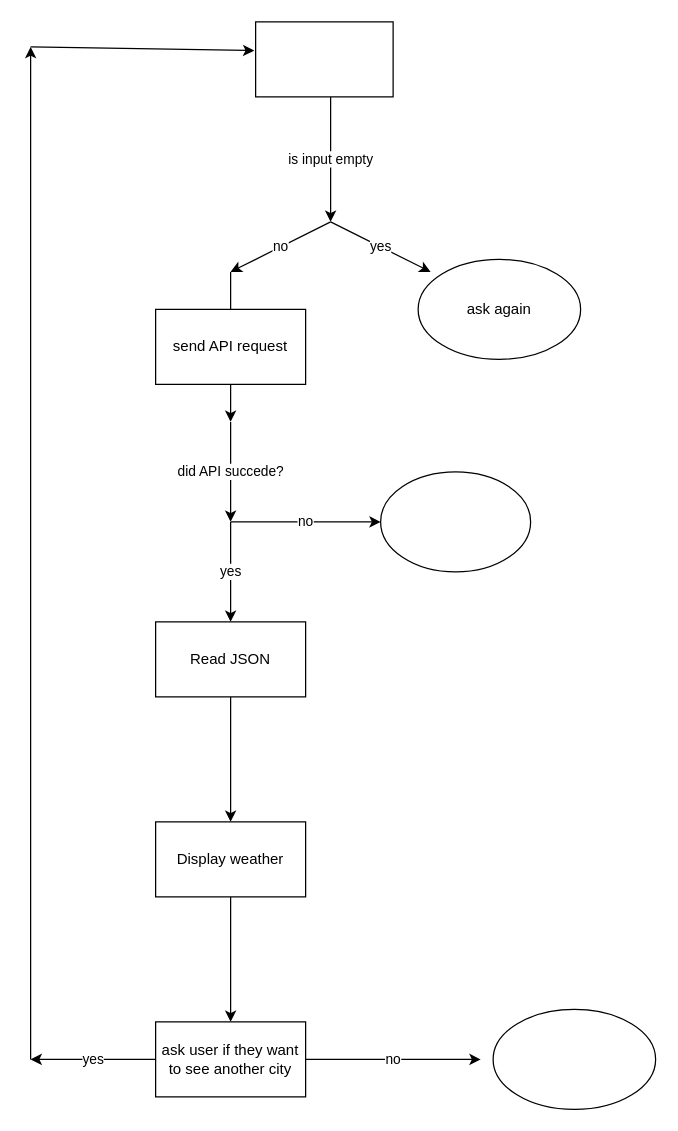
This 678x1131 diagram has some shape labels left out. The shapes that lost their labels are listed below. From the top down, each one's centre as x and y in pixels, then its label:
(x=323, y=59): Ask for city
(x=455, y=521): show error
(x=574, y=1058): Destroy wndow
